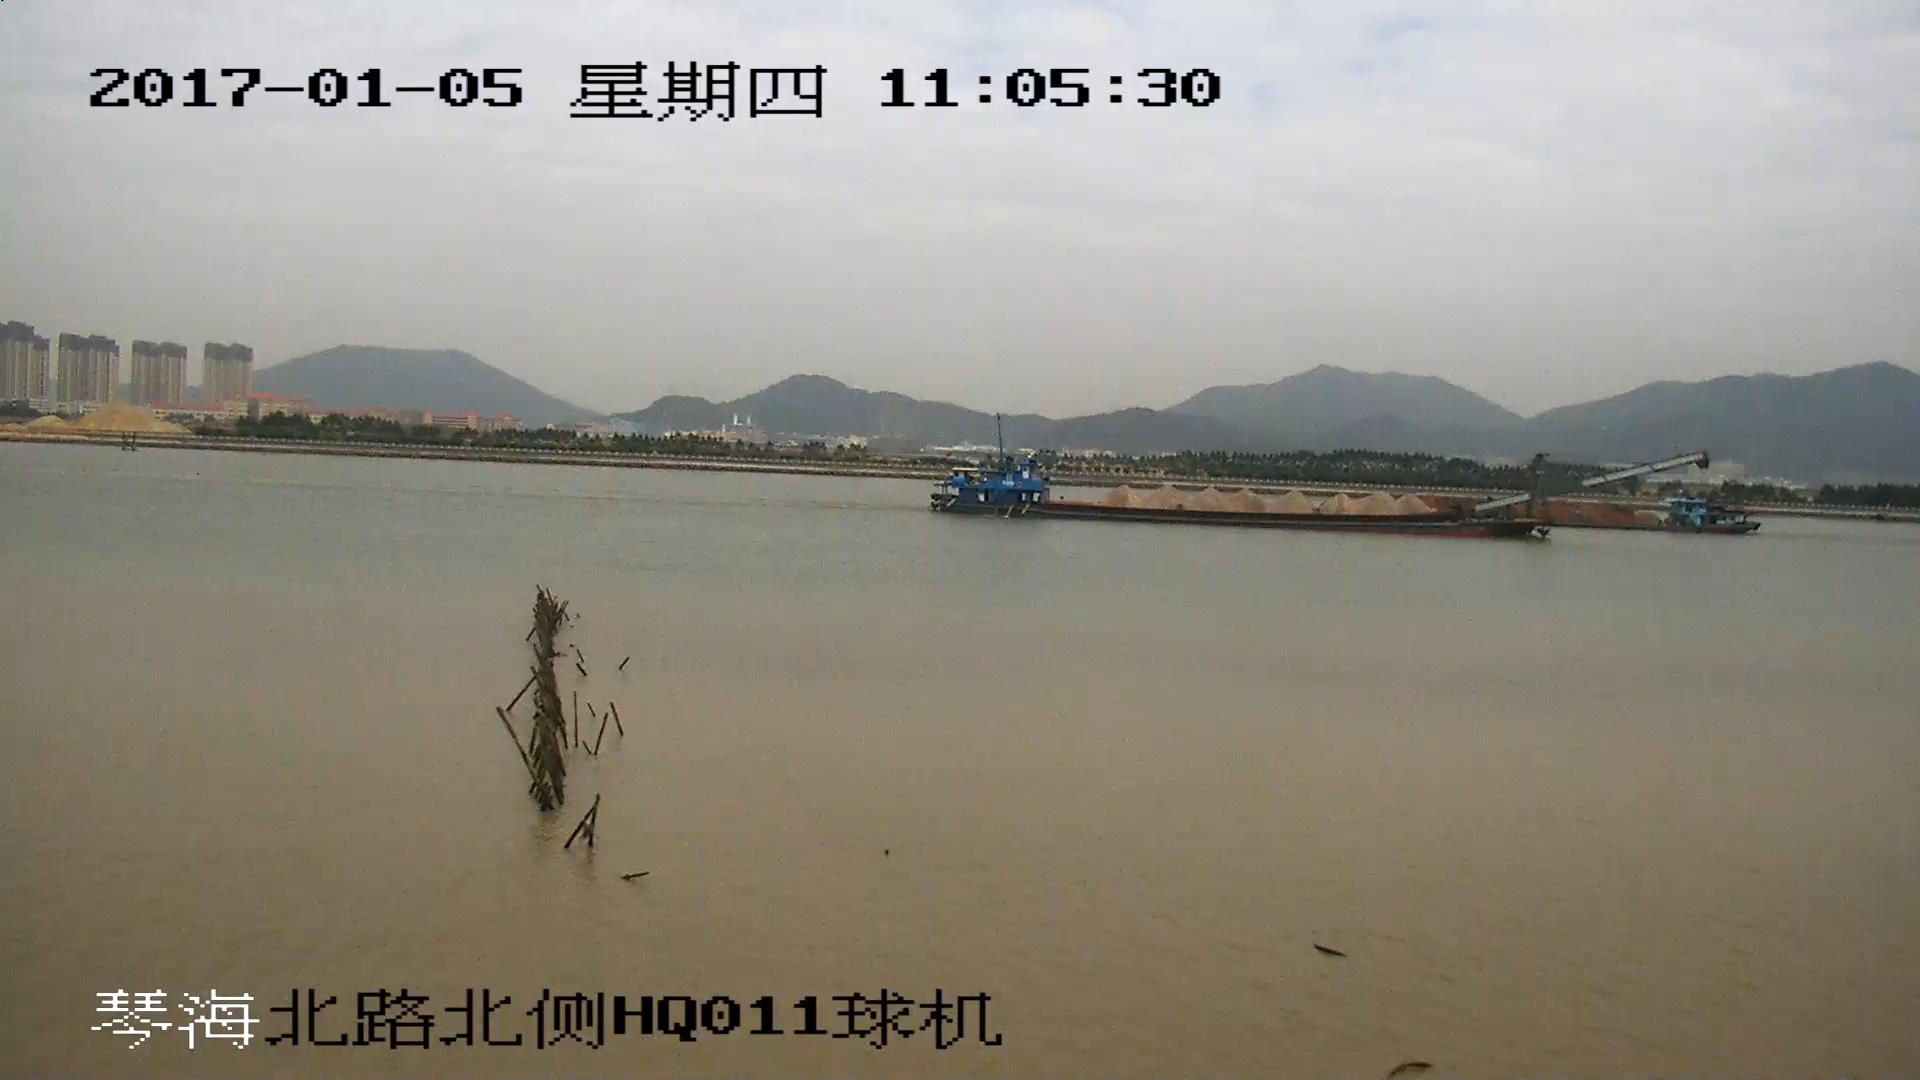ore carrier: (938, 450, 1708, 538), (1558, 500, 1762, 536)
